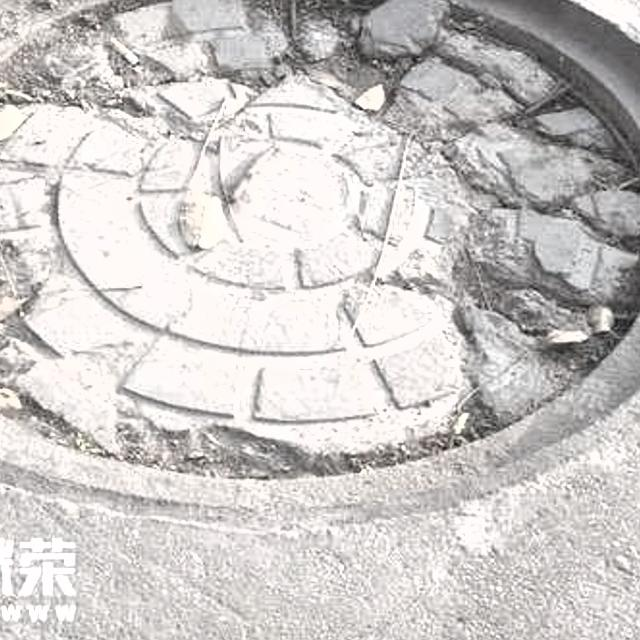broke: (0, 0, 640, 517)
